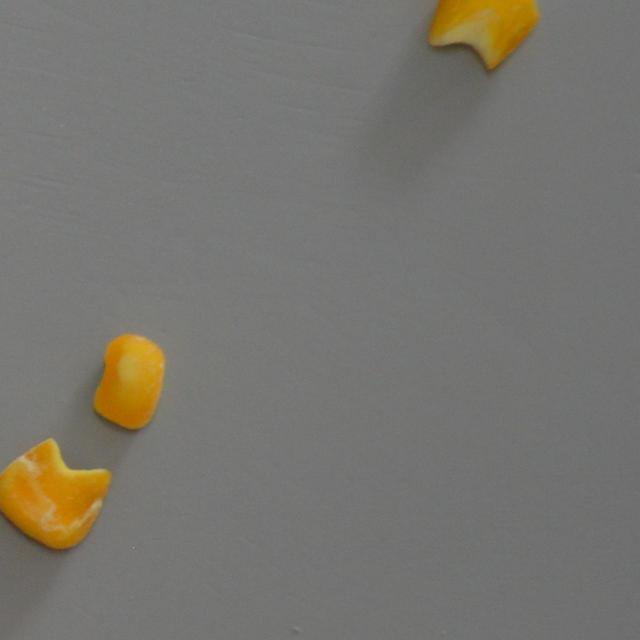no_canjicado: (428, 0, 538, 70), (91, 333, 166, 430)
pelicula: (0, 436, 112, 552)
